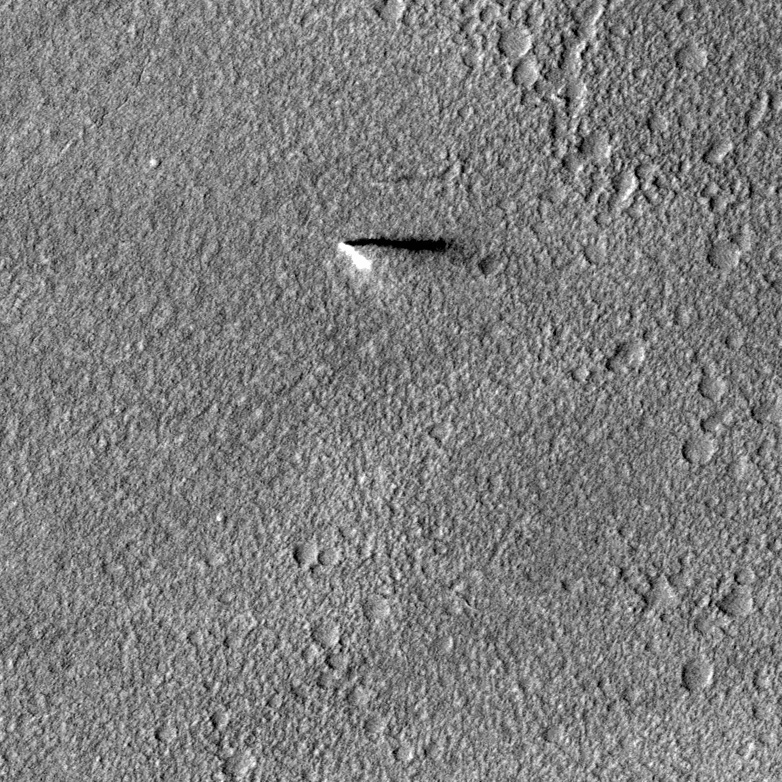dust_devil: (336, 233, 467, 273), (370, 163, 454, 190)
